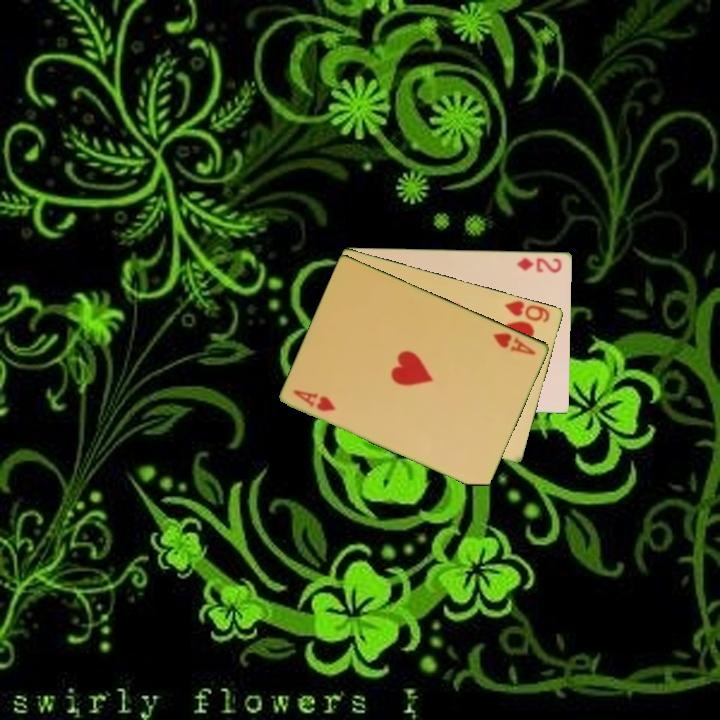2d: (514, 254, 565, 275)
6h: (502, 297, 553, 325)
Ah: (489, 329, 539, 358), (290, 386, 339, 414)
